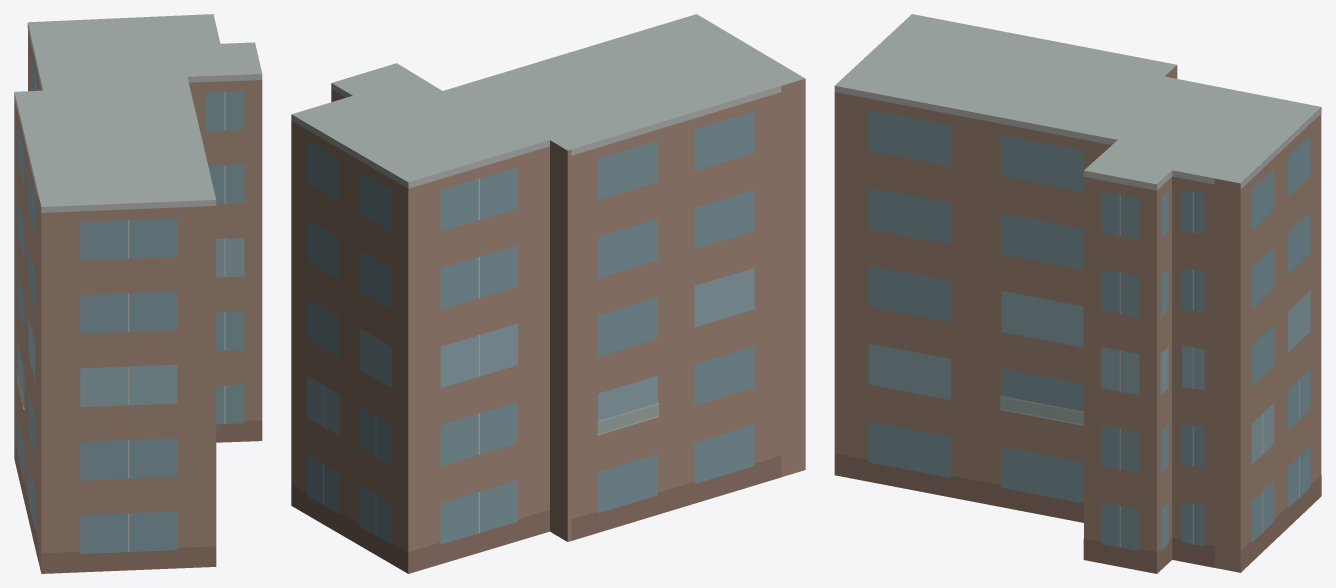
File: survey-upis-32976545.glb
3 renders of one model, left to right at view 1: azimuth 30°, elevation 25°; view 2: azimuth 150°, elevation 25°; view 3: azimuth 270°, elevation 25°, orthographic. The views are drawn at different scales.
Parts seen in each view (by area): view 1: survey-upis-32976545.tmp; view 2: survey-upis-32976545.tmp; view 3: survey-upis-32976545.tmp.
Boxes of the visible parts, box(x1,y1,x2,y2) form: survey-upis-32976545.tmp: box(14, 14, 262, 573); survey-upis-32976545.tmp: box(291, 14, 805, 573); survey-upis-32976545.tmp: box(834, 14, 1321, 573).
Size of the model in its own units: 14.24 by 15.16 by 17.18.
